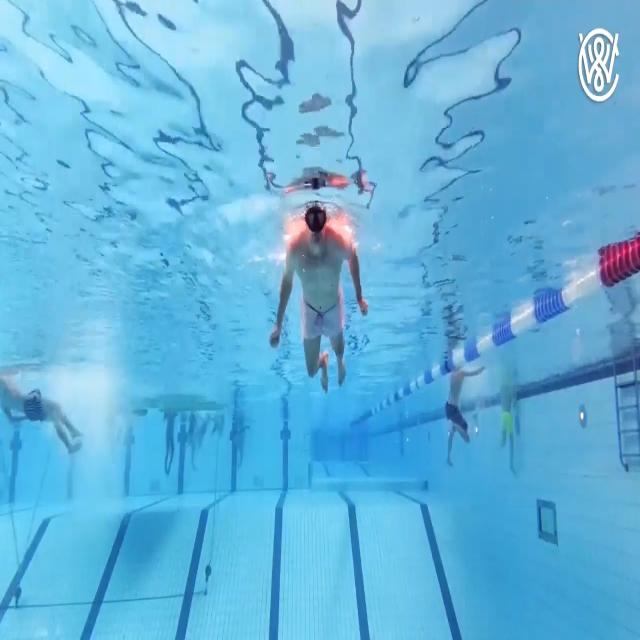Swimming: (269, 201, 369, 395), (0, 375, 82, 454), (444, 361, 484, 470)
